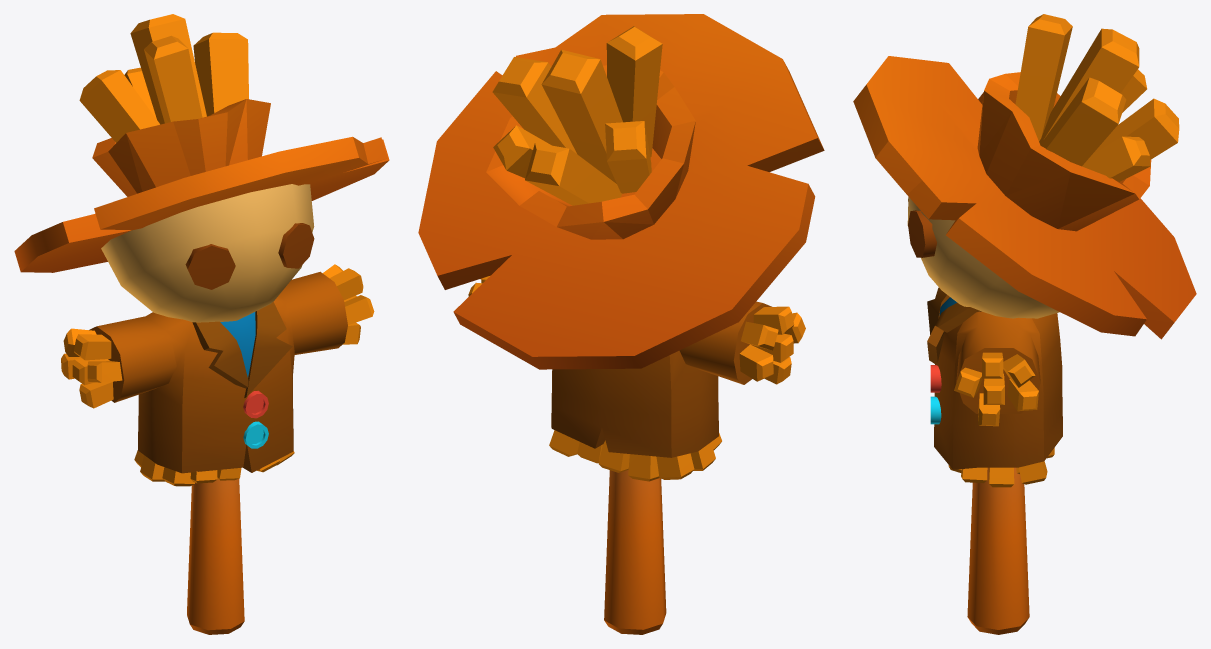
File: Props_Scarecrow_02.fbx
3 views of the same model, side by side, from view 1: azimuth 30°, elevation 25°; view 2: azimuth 150°, elevation 25°; view 3: azimuth 270°, elevation 25° (orthographic). The views are drawn at different scales.
Parts seen in each view (by area): view 1: Props_Scarecrow_02; view 2: Props_Scarecrow_02; view 3: Props_Scarecrow_02.
Boxes of the visible parts, <box> form: Props_Scarecrow_02: <box>14,14,389,634</box>; Props_Scarecrow_02: <box>418,14,824,634</box>; Props_Scarecrow_02: <box>853,14,1196,634</box>.
Bounding box in the file's own units: 171 × 279 × 146.
